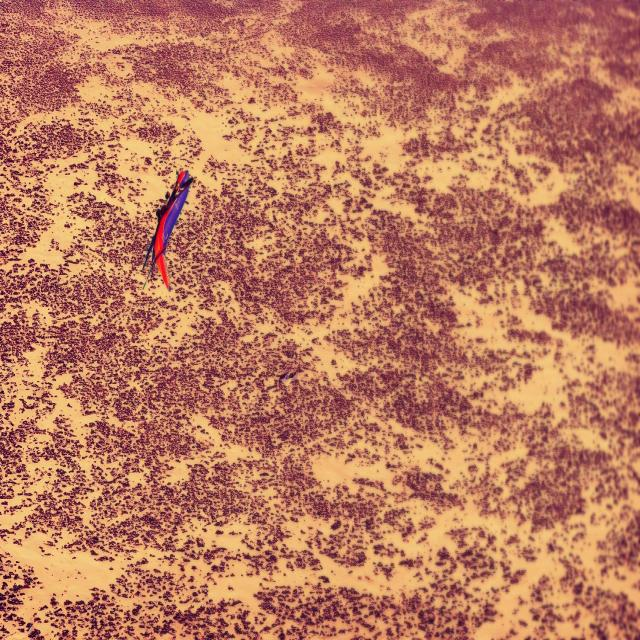airplane: (140, 168, 193, 294)
